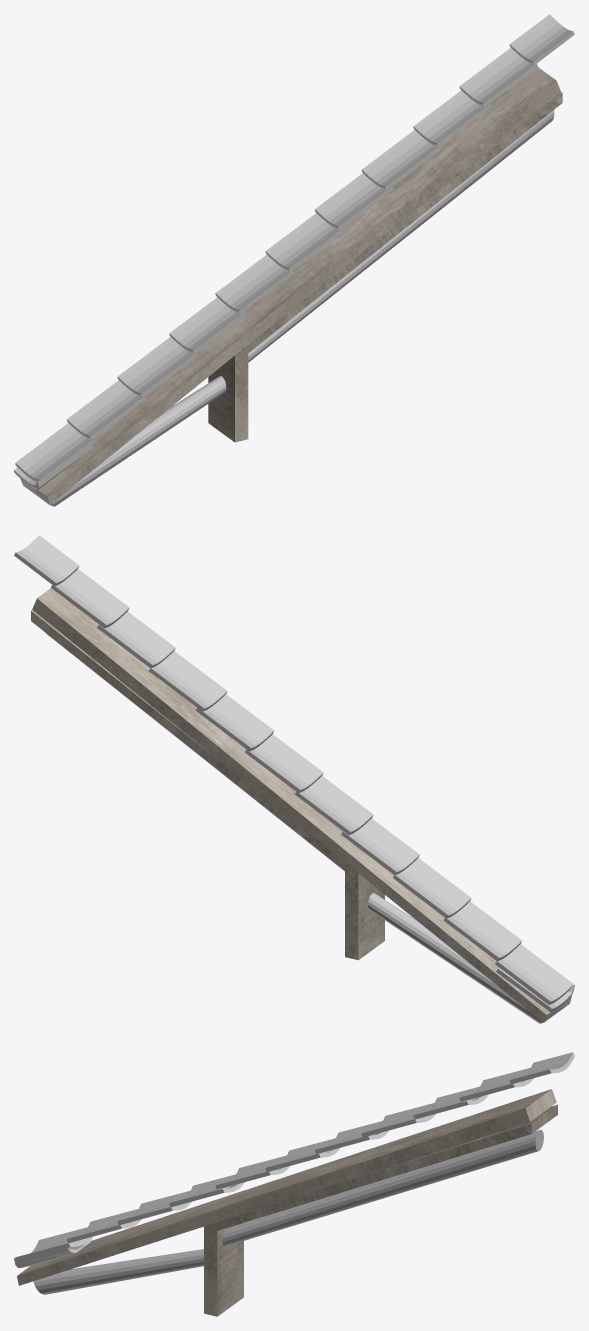
The model's file is SM_Roof_62.fbx.
The picture shows the model from 3 angles, top to bottom: view 1: azimuth 30°, elevation 25°; view 2: azimuth 150°, elevation 25°; view 3: azimuth 330°, elevation 25°; orthographic projection.
Visible parts, largest first — view 1: SM_Roof_62; view 2: SM_Roof_62; view 3: SM_Roof_62.
Boxes of the visible parts, x1=… form: SM_Roof_62: x1=14, y1=14, x2=574, y2=506; SM_Roof_62: x1=14, y1=535, x2=574, y2=1023; SM_Roof_62: x1=14, y1=1052, x2=574, y2=1316.
Bounding box in the file's own units: 479 × 41.88 × 302.
